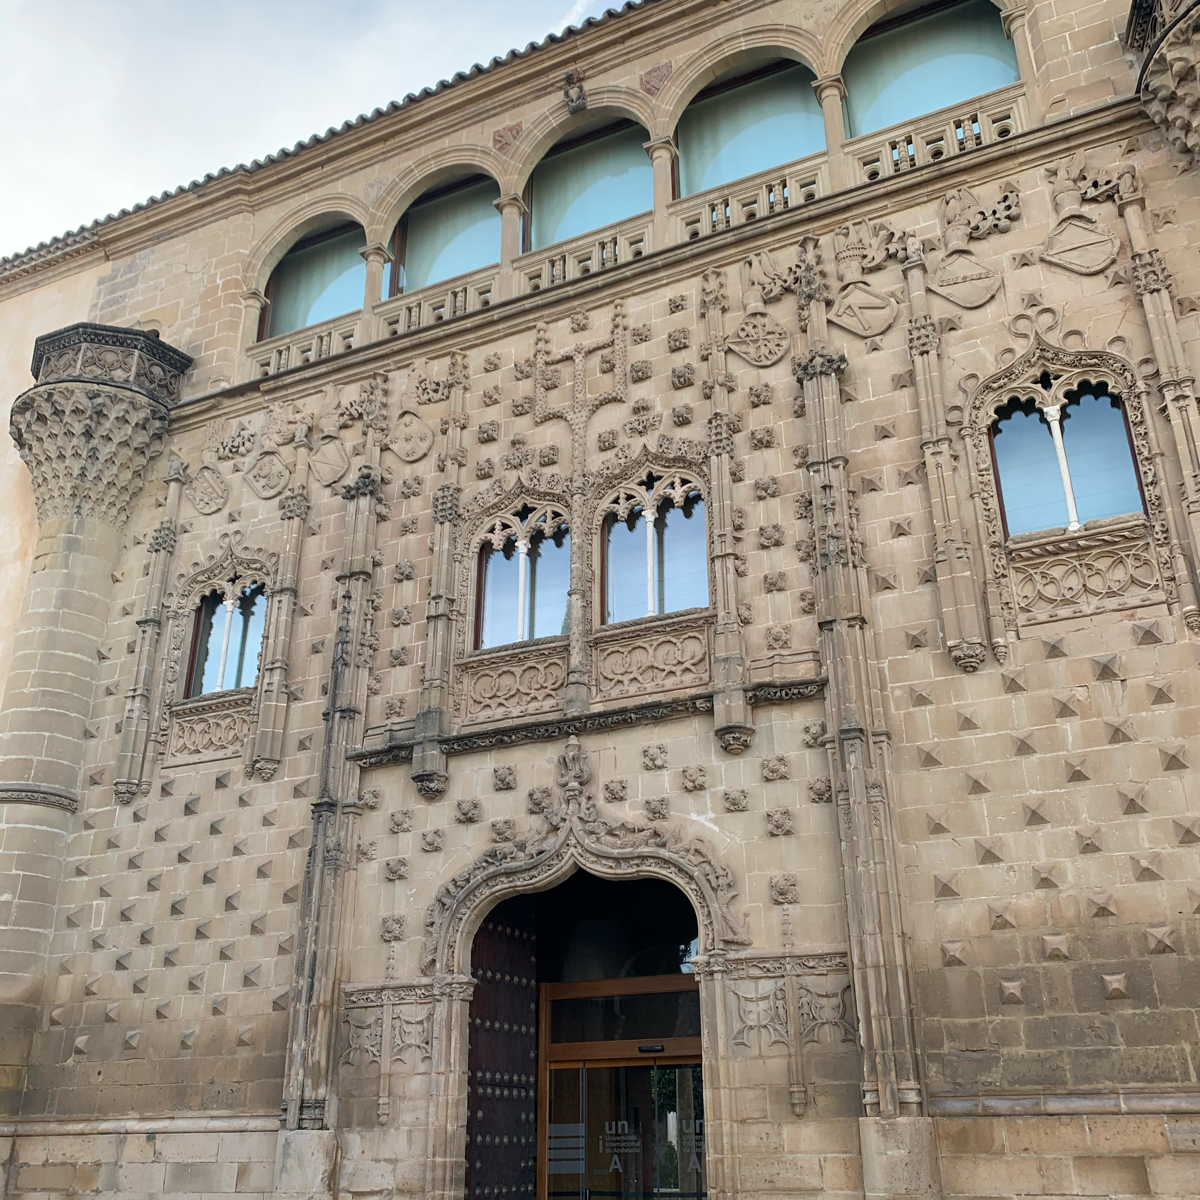arco-conopial: (440, 816, 719, 929), (968, 333, 1148, 424), (588, 440, 714, 514), (173, 541, 276, 599), (469, 477, 570, 535)
arco-medio-punto: (657, 27, 842, 153), (513, 95, 662, 199), (380, 148, 507, 236), (253, 199, 368, 281)
